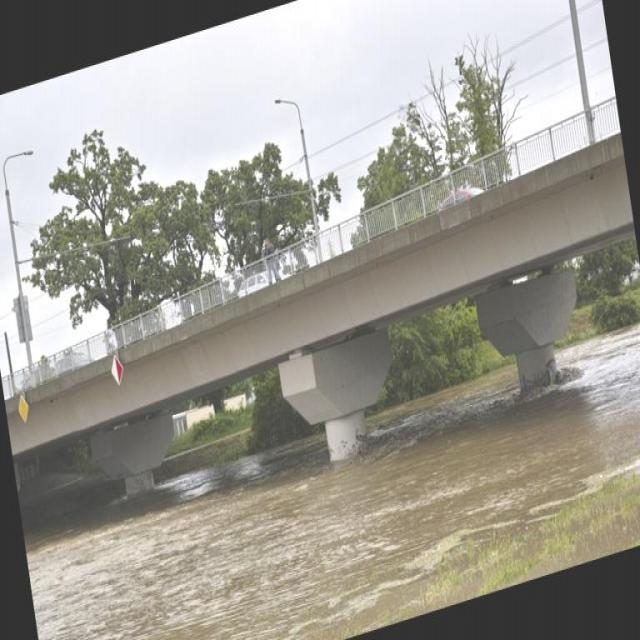flood: (15, 276, 639, 639)
